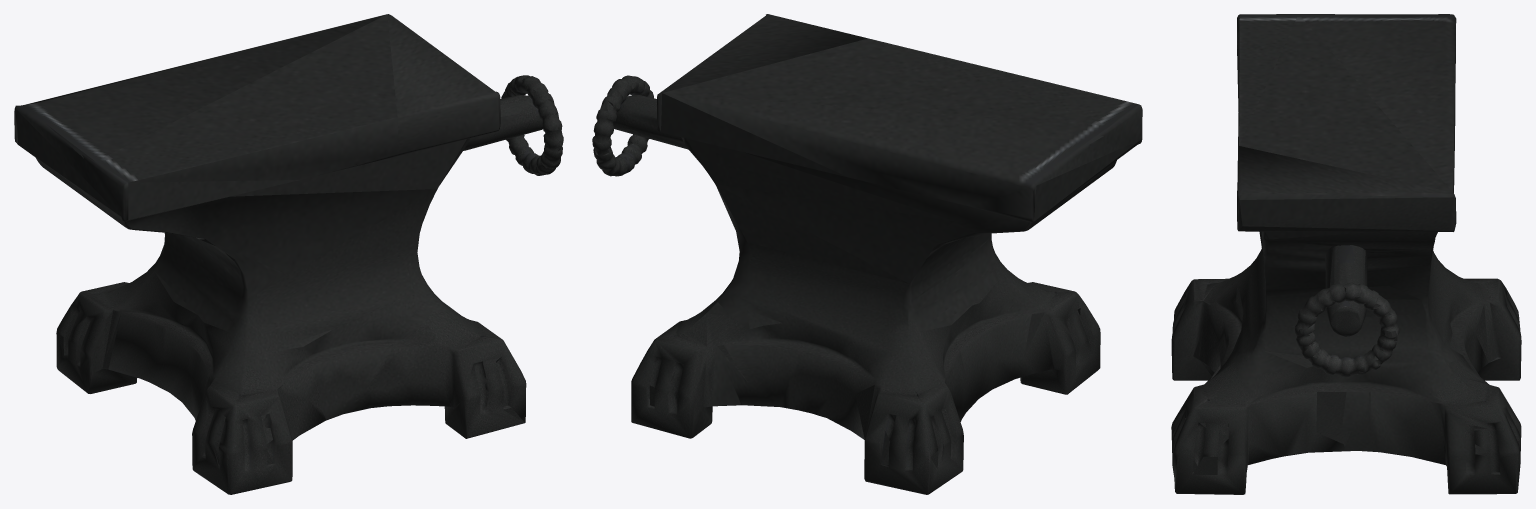
File: Enclume.fbx
3 views of the same model, side by side, from view 1: azimuth 30°, elevation 25°; view 2: azimuth 150°, elevation 25°; view 3: azimuth 270°, elevation 25° (orthographic).
Parts seen in each view (by area): view 1: output_unwrapped; view 2: output_unwrapped; view 3: output_unwrapped.
Part boxes in pixels (x1=…): output_unwrapped: x1=14, y1=14, x2=563, y2=494; output_unwrapped: x1=592, y1=14, x2=1142, y2=494; output_unwrapped: x1=1171, y1=14, x2=1521, y2=494.
Bounding box in the file's own units: 190 × 118 × 123.
1 material, 1 textured.
